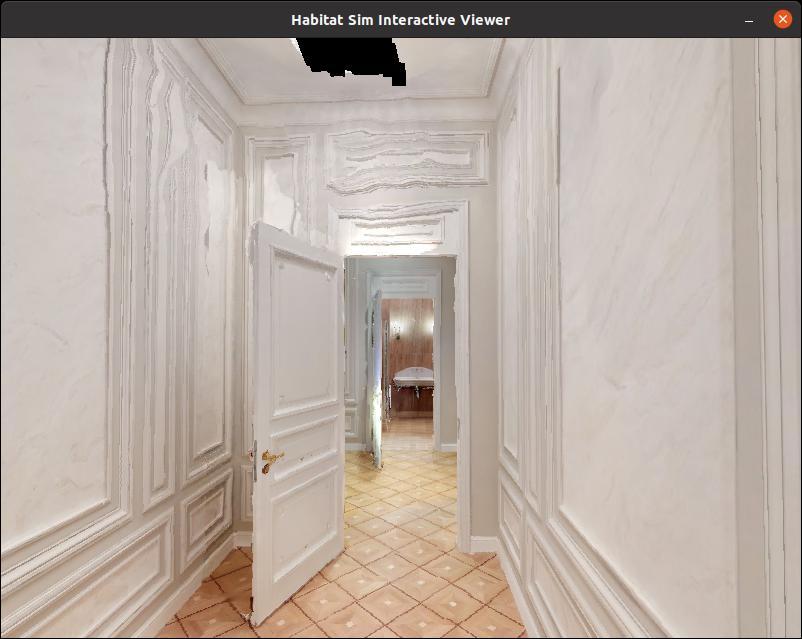door: (243, 217, 352, 632)
door-frame: (331, 237, 470, 567), (377, 279, 448, 463)
